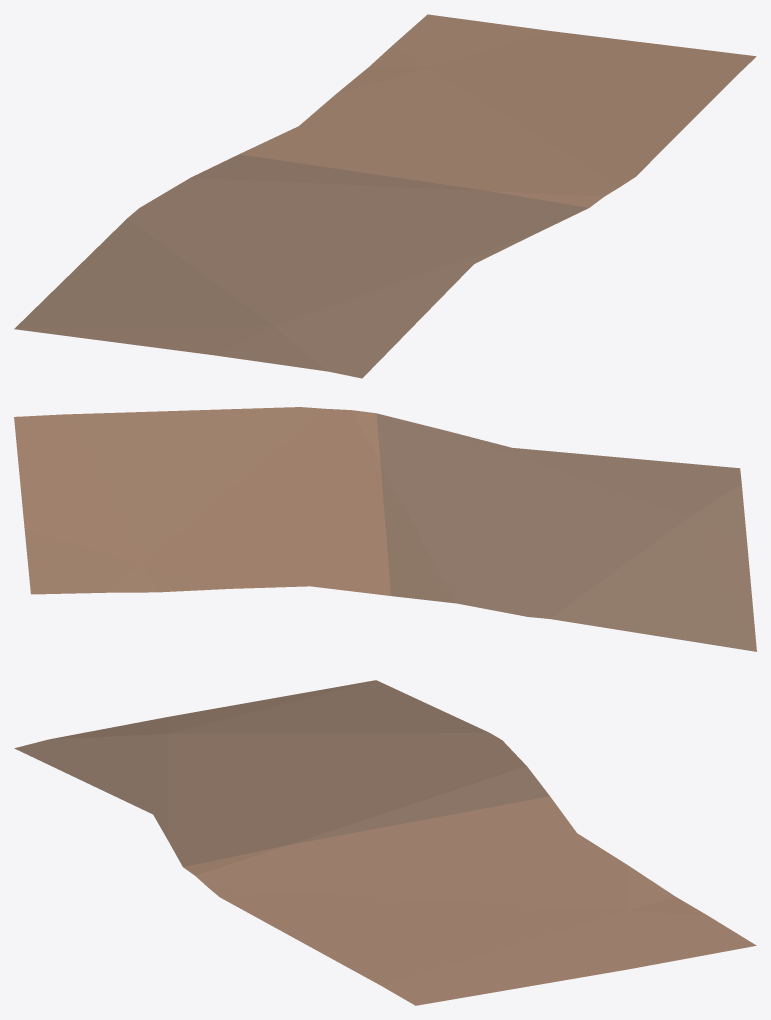
File: farm_9_-1_soil.glb
3 views of the same model, one above another, from view 1: azimuth 30°, elevation 25°; view 2: azimuth 150°, elevation 25°; view 3: azimuth 270°, elevation 25° (orthographic). The views are drawn at different scales.
Parts seen in each view (by area): view 1: geometry_0; view 2: geometry_0; view 3: geometry_0.
Part boxes in pixels (<box>): geometry_0: <box>14,14,756,378</box>; geometry_0: <box>14,407,756,651</box>; geometry_0: <box>14,680,756,1005</box>.
Bounding box in the file's own units: 167 × 15.58 × 129.
